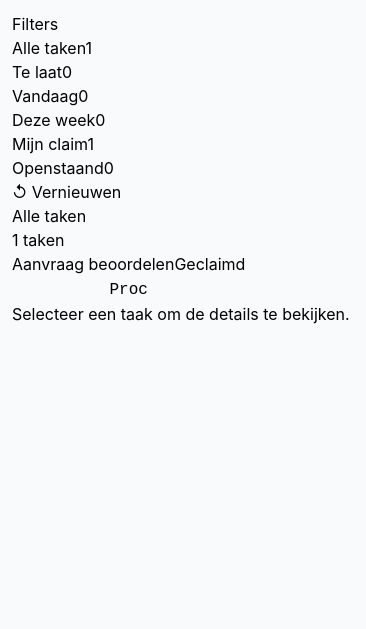
Test case: TakenInbox › shows neither form nor panel while the signing spec is still loading
Click the text "Aanvraag beoordelen": (93, 264) [12, 254, 174, 274]
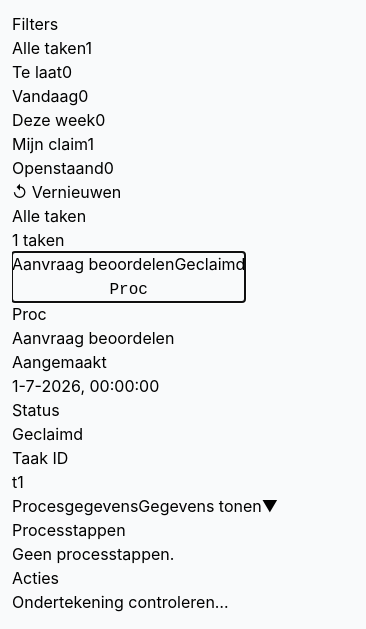
Expected: the text "Ondertekening controleren…" is shown, [12, 592, 229, 612]
